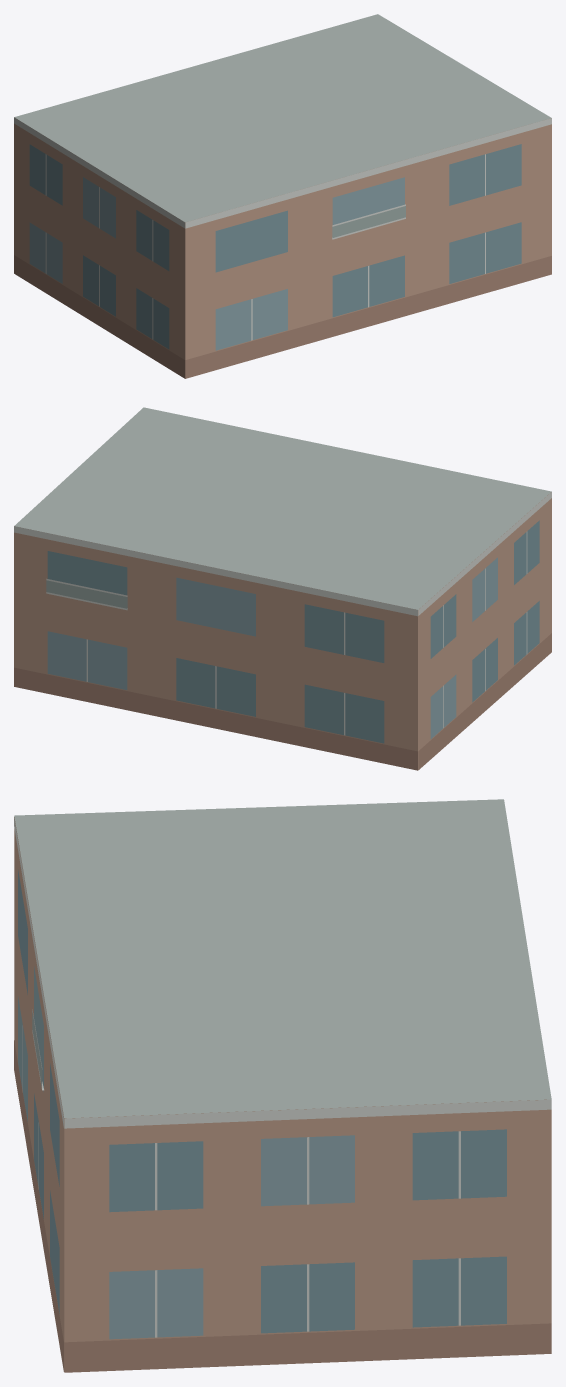
File: survey-upis-32757130.glb
3 renders of one model, top to bottom at view 1: azimuth 30°, elevation 25°; view 2: azimuth 150°, elevation 25°; view 3: azimuth 270°, elevation 25°, orthographic. The views are drawn at different scales.
Parts seen in each view (by area): view 1: survey-upis-32757130.tmp; view 2: survey-upis-32757130.tmp; view 3: survey-upis-32757130.tmp.
Part boxes in pixels (bbox=[...]): survey-upis-32757130.tmp: bbox=[14, 14, 551, 378]; survey-upis-32757130.tmp: bbox=[14, 407, 551, 770]; survey-upis-32757130.tmp: bbox=[14, 799, 551, 1372].
Bounding box in the file's own units: 16.44 × 6.1 × 11.7.
